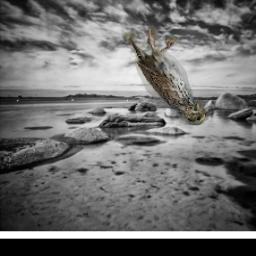Sparrow: (122, 29, 208, 125)
